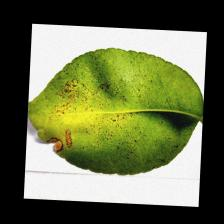canker: (32, 63, 100, 173)
